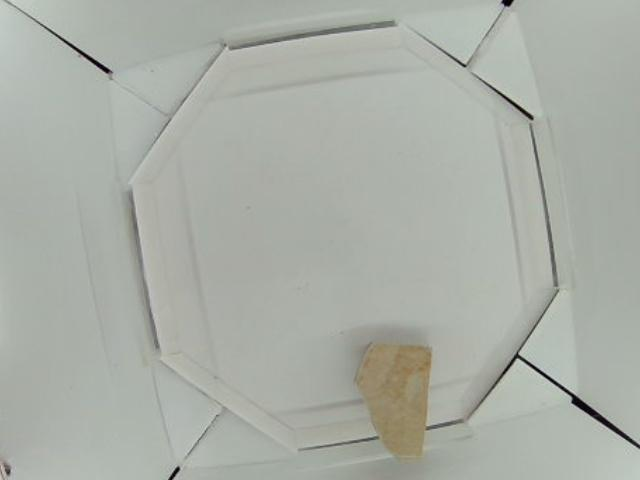China: (354, 347, 431, 461)
